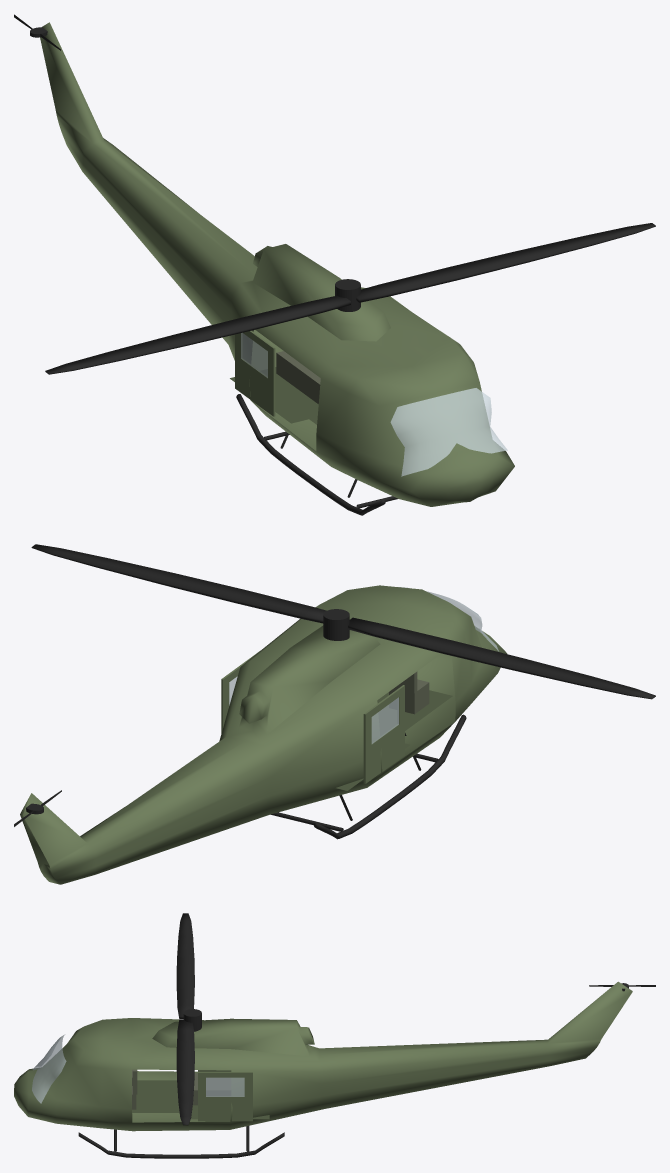
Rendered from huey.glb.
The picture shows the model from 3 angles, top to bottom: view 1: azimuth 30°, elevation 25°; view 2: azimuth 150°, elevation 25°; view 3: azimuth 270°, elevation 25°; orthographic projection. The views are drawn at different scales.
Parts seen in each view (by area): view 1: Huey_Copy, Cockpit_Windshield, New_Blade_2, New_Blade_1, Door_Left, huey_int_floor_cabin, New_Skid_L, huey_int_bench, Window_R_Open.001; view 2: Huey_Copy, New_Blade_2, New_Blade_1, Door_Left, New_Skid_L, huey_int_floor_cockpit, New_Rotor_Hub, Window_R_Open.001, huey_int_seat_box_l_pan, Door_Right; view 3: Huey_Copy, Door_Right, New_Blade_1, New_Blade_2, huey_int_floor_cockpit, Cockpit_Windshield, New_Skid_R, Window_R_Open, huey_int_bench.
Boxes of the visible parts, box(x1,y1,x2,y2) form: Huey_Copy: box(40, 22, 514, 506); Cockpit_Windshield: box(390, 388, 507, 476); New_Blade_2: box(45, 295, 350, 374); New_Blade_1: box(356, 223, 655, 302); Door_Left: box(235, 330, 275, 416); huey_int_floor_cabin: box(230, 367, 318, 423); New_Skid_L: box(236, 394, 385, 515); huey_int_bench: box(276, 351, 320, 403); Window_R_Open.001: box(241, 332, 267, 377); Huey_Copy: box(20, 585, 507, 884); New_Blade_2: box(348, 617, 655, 699); New_Blade_1: box(31, 544, 326, 623); Door_Left: box(363, 685, 404, 783); New_Skid_L: box(313, 714, 466, 839); huey_int_floor_cockpit: box(377, 690, 452, 735); New_Rotor_Hub: box(323, 609, 349, 640); Window_R_Open.001: box(371, 697, 398, 743); huey_int_seat_box_l_pan: box(389, 679, 429, 714); Door_Right: box(221, 650, 260, 733); Huey_Copy: box(14, 981, 632, 1131); Door_Right: box(198, 1072, 252, 1121); New_Blade_1: box(176, 1019, 194, 1125); New_Blade_2: box(176, 913, 194, 1018); huey_int_floor_cockpit: box(132, 1080, 179, 1112); Cockpit_Windshield: box(32, 1034, 66, 1103); New_Skid_R: box(78, 1132, 284, 1158); Window_R_Open: box(206, 1077, 244, 1096); huey_int_bench: box(193, 1073, 230, 1105).
Bounding box in the file's own units: 13.59 × 4.85 × 17.46.
